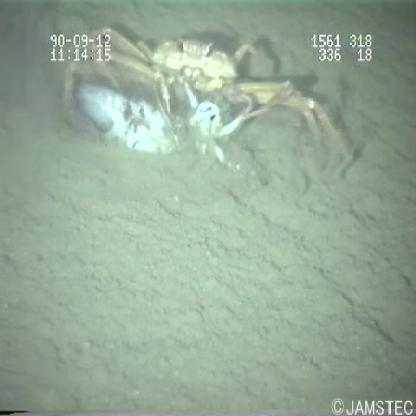Bio: (58, 23, 359, 184)
